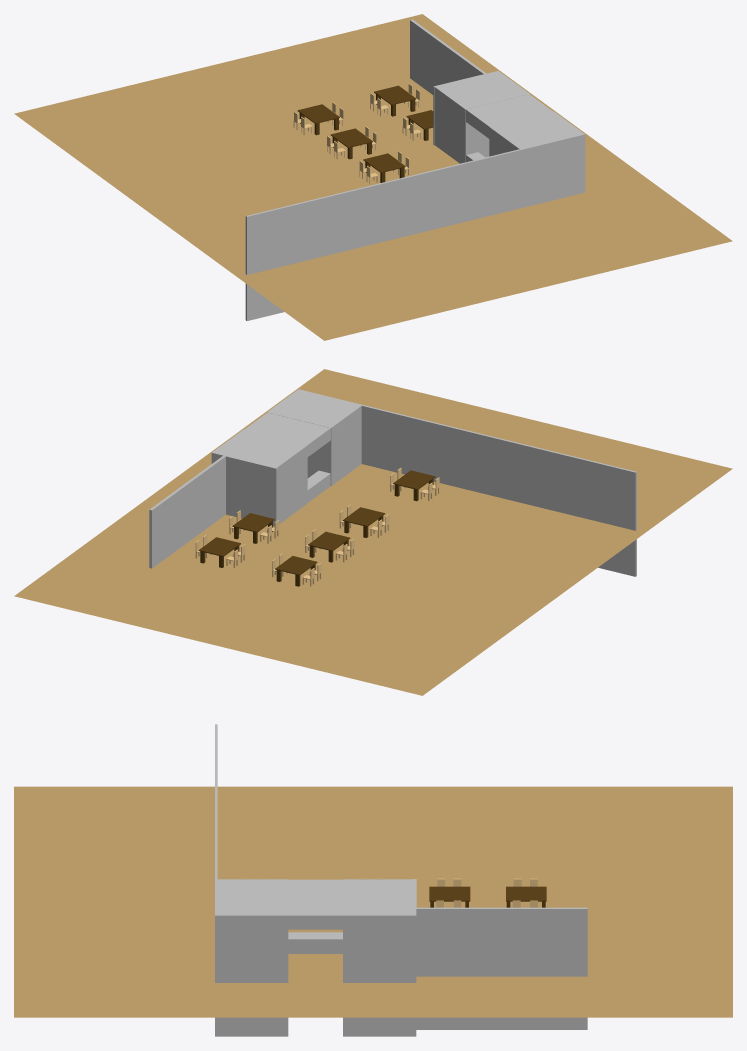
Rendered from scenethree.dae.
3 views of the same model, one above another, from view 1: azimuth 30°, elevation 25°; view 2: azimuth 150°, elevation 25°; view 3: azimuth 270°, elevation 25° (orthographic). The views are drawn at different scales.
Visible parts, largest first — view 1: Cube, Cube.32; view 2: Cube, Cube.32; view 3: Cube, Cube.32.
Part boxes in pixels (x1,y1,x2,y2): Cube: (14, 14, 732, 340); Cube.32: (245, 19, 585, 320); Cube: (14, 369, 732, 695); Cube.32: (149, 389, 636, 586); Cube: (14, 786, 732, 1017); Cube.32: (215, 724, 587, 1036).
Bounding box in the file's own units: 1462 × 357 × 1924.
